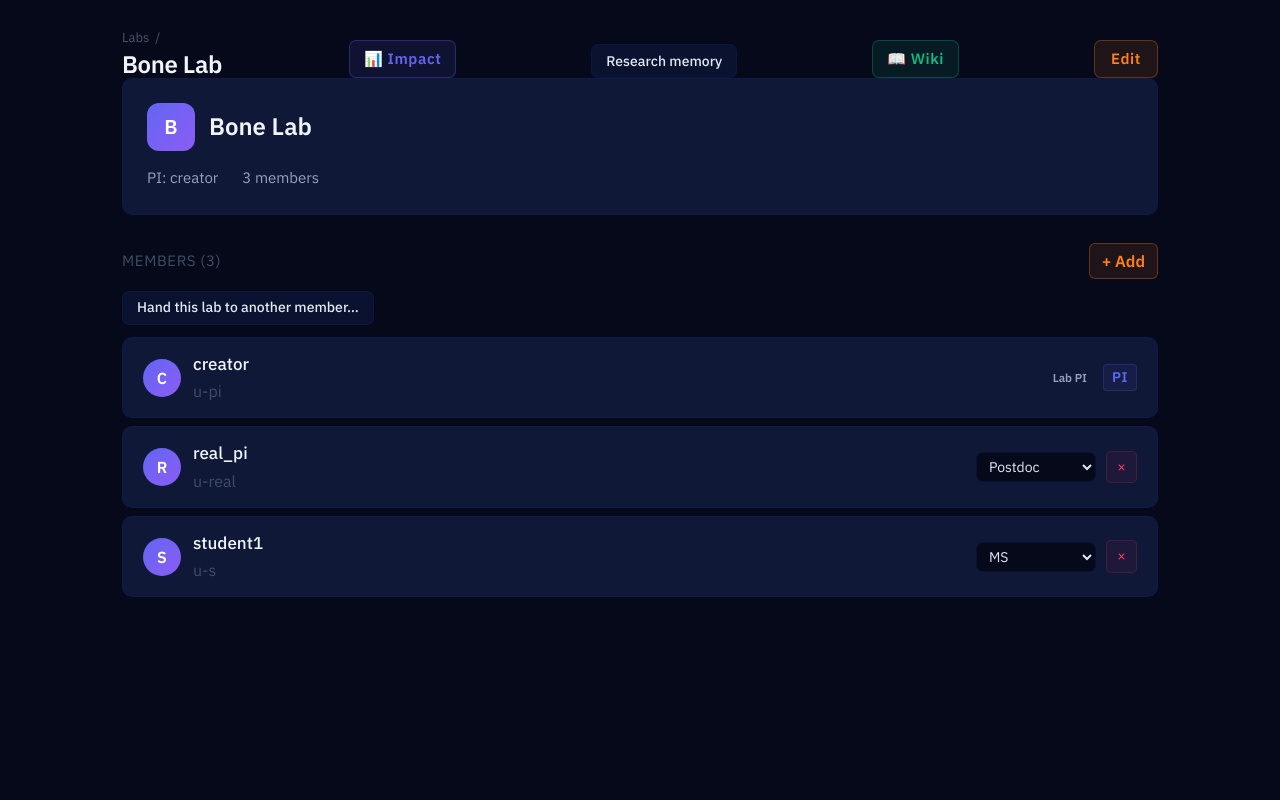
Test: LabDetail — managing the roster › a refused change is shown, not swallowed
Select "PhD" in the dropdown named "Role of student1" at point(1036, 556), box [976,542,1096,572]
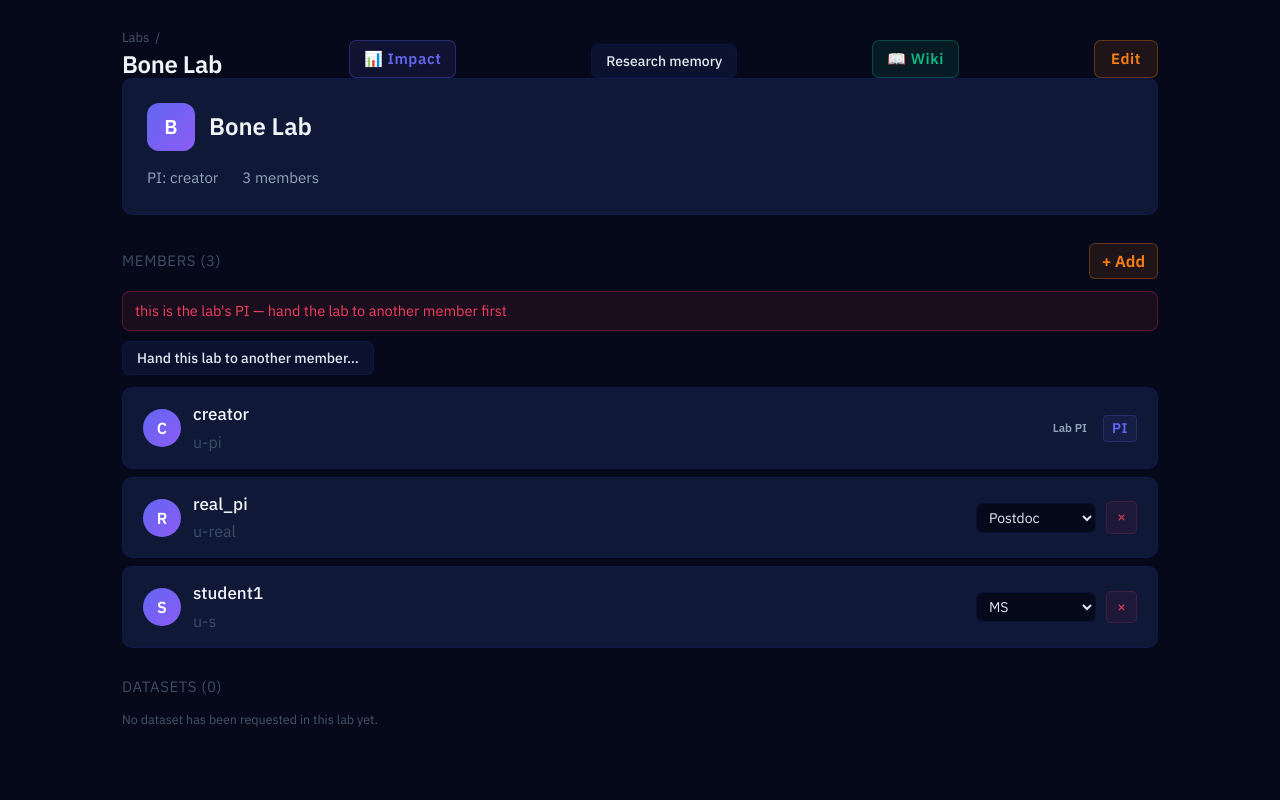
Check: the message shows "hand the lab to another member first", box [135,301,507,320]
